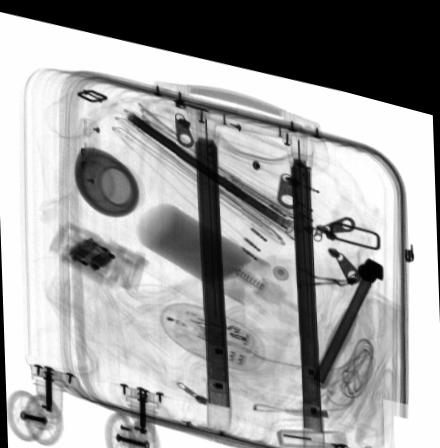Hammer: (308, 238, 384, 373)
